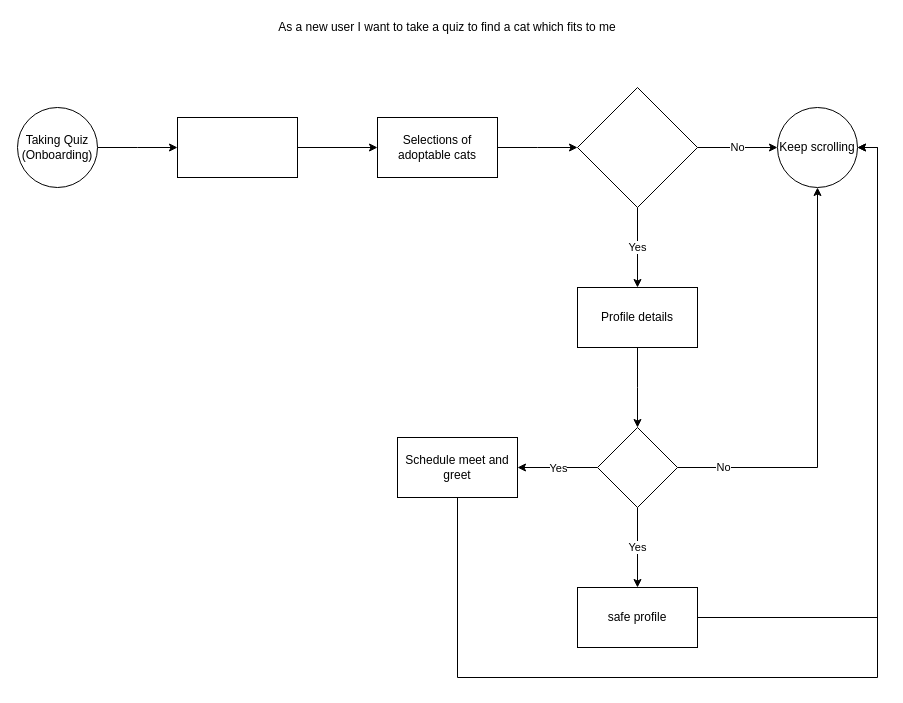
Some shapes in this 903 by 703 pixel diagram are drawn without their labels. The shapes that lost their labels are listed below. From the top down, each one's centre as x and y in pixels, then its label:
At (x=237, y=147): "Sign up for Account".
At (x=637, y=147): "Do you want to take a closer look at a specific cat?".
At (x=637, y=467): "Are you interested in cat?".
